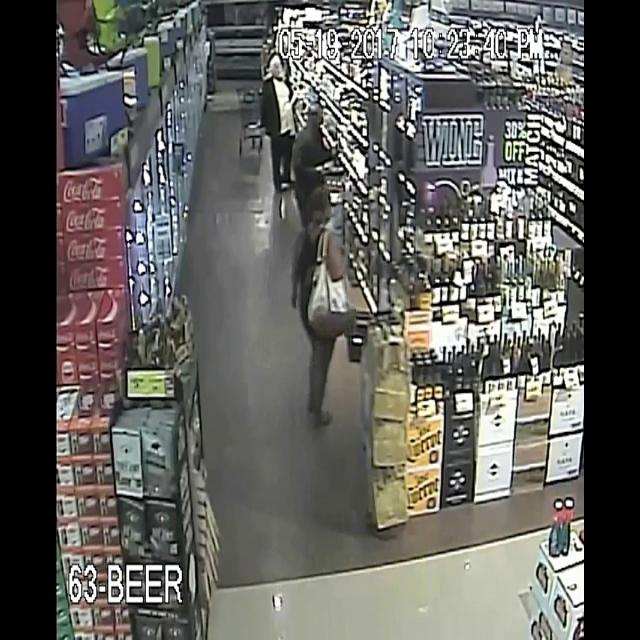Product: (325, 149, 338, 169)
normal: (279, 182, 362, 431), (258, 44, 297, 174)
shoplifting: (288, 92, 348, 297)
